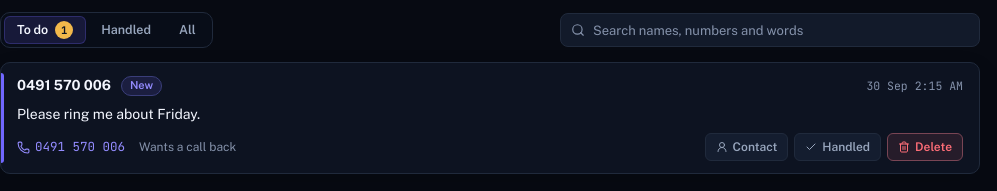
Scenario: Messages › says when nothing has been handled yet, rather than that nothing matches
The width and height of the screenshot is (997, 191).
Click the tab "Handled". click: (126, 30)
box: [88,16,164,44]
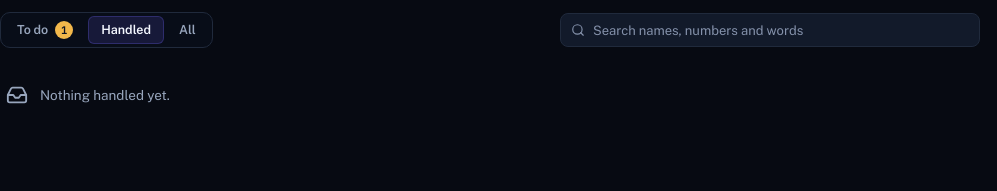
Expected: the text "Nothing handled yet." is shown, [40,85,170,105]
